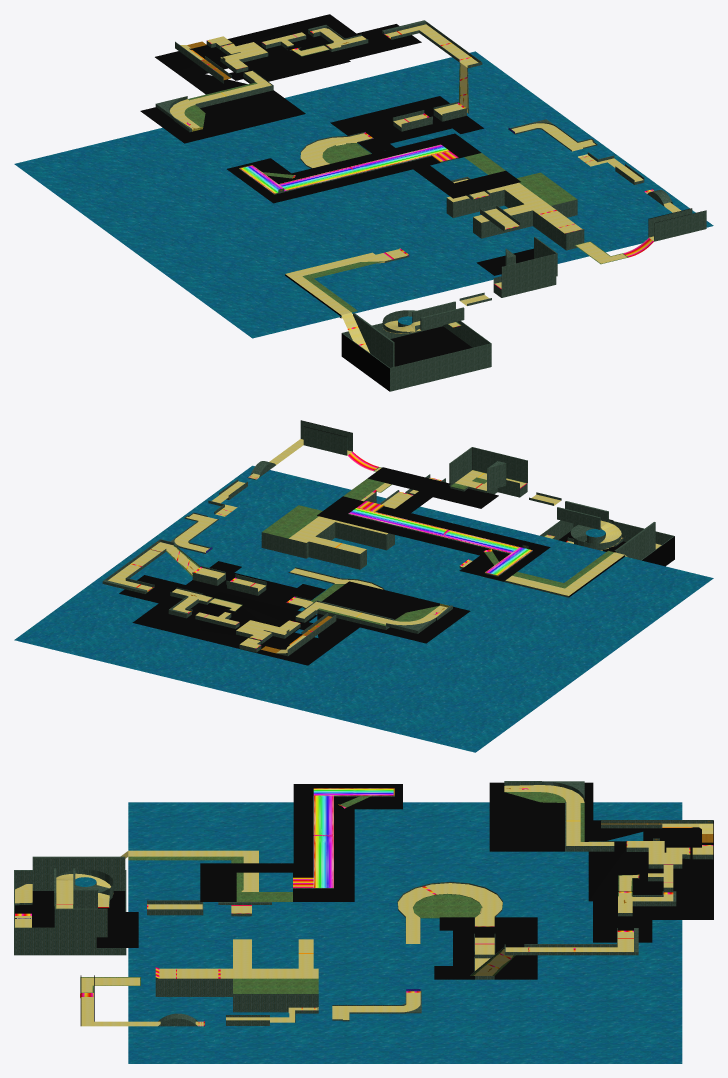
The picture shows the model from 3 angles, top to bottom: view 1: azimuth 30°, elevation 25°; view 2: azimuth 150°, elevation 25°; view 3: azimuth 270°, elevation 25°; orthographic projection. The views are drawn at different scales.
Parts seen in each view (by area): view 1: sawe-SKP--raka1, sawe-SKP--raka, sawe-SKP--kabe, sawe-SKP--road, sawe-SKP--offroad, sawe-IMG-7472-Image1, sawe-SKP--Default_Material; view 2: sawe-SKP--raka1, sawe-SKP--raka, sawe-SKP--kabe, sawe-SKP--road, sawe-SKP--offroad, sawe-IMG-7472-Image1, sawe-SKP--Default_Material; view 3: sawe-SKP--raka1, sawe-SKP--raka, sawe-SKP--kabe, sawe-SKP--road, sawe-SKP--offroad, sawe-IMG-7472-Image1, sawe-IMG-7468-Image1.
Part boxes in pixels (x1,y1,x2,y2): sawe-SKP--raka1: (14, 51, 713, 338); sawe-SKP--raka: (140, 14, 533, 366); sawe-SKP--kabe: (155, 20, 706, 391); sawe-SKP--road: (170, 24, 681, 352); sawe-SKP--offroad: (184, 43, 628, 327); sawe-IMG-7472-Image1: (279, 144, 449, 190); sawe-SKP--Default_Material: (285, 34, 704, 391); sawe-SKP--raka1: (14, 465, 713, 752); sawe-SKP--raka: (119, 467, 625, 665); sawe-SKP--kabe: (102, 420, 674, 656); sawe-SKP--road: (108, 439, 661, 653); sawe-SKP--offroad: (166, 467, 613, 626); sawe-IMG-7472-Image1: (348, 507, 519, 553); sawe-SKP--Default_Material: (301, 420, 674, 634); sawe-SKP--raka1: (75, 802, 682, 1063); sawe-SKP--raka: (15, 782, 713, 979); sawe-SKP--kabe: (14, 781, 713, 1026); sawe-SKP--road: (15, 785, 713, 1026); sawe-SKP--offroad: (55, 792, 637, 993); sawe-IMG-7472-Image1: (313, 795, 333, 887); sawe-IMG-7468-Image1: (313, 788, 393, 795).
Size of the model in its own units: 216250 by 48670 by 244489.
Materials: 15 (15 with a texture image).
